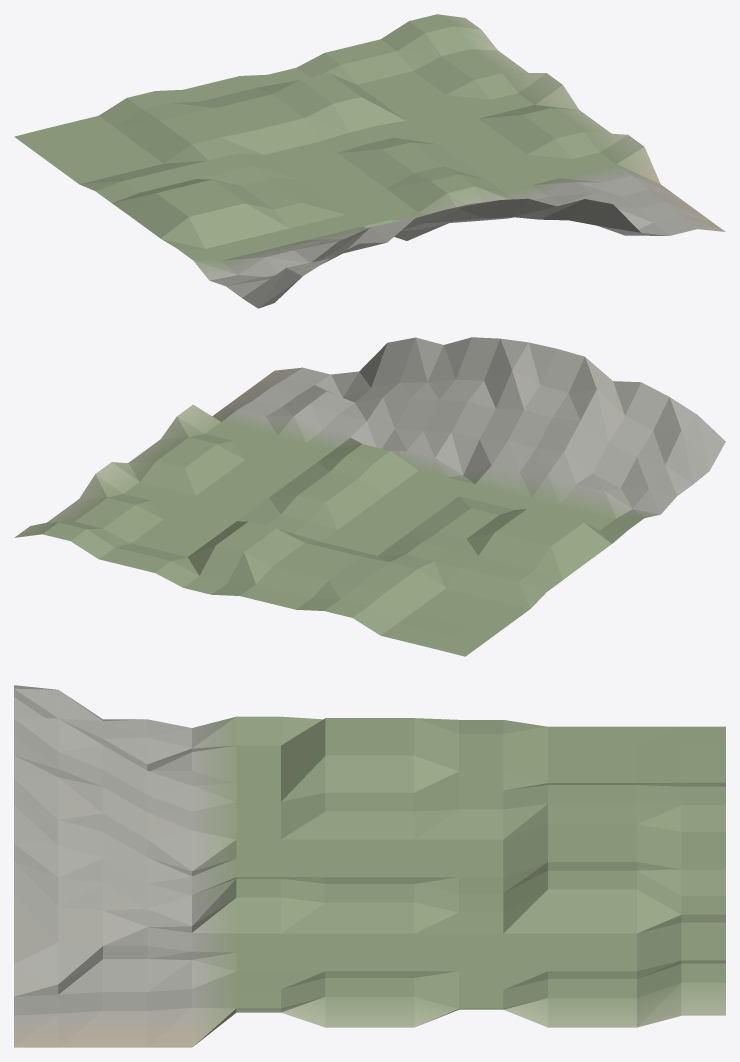
The picture shows the model from 3 angles, top to bottom: view 1: azimuth 30°, elevation 25°; view 2: azimuth 150°, elevation 25°; view 3: azimuth 270°, elevation 25°; orthographic projection. The views are drawn at different scales.
Bounding box in the file's own units: 32 × 6.15 × 32.
